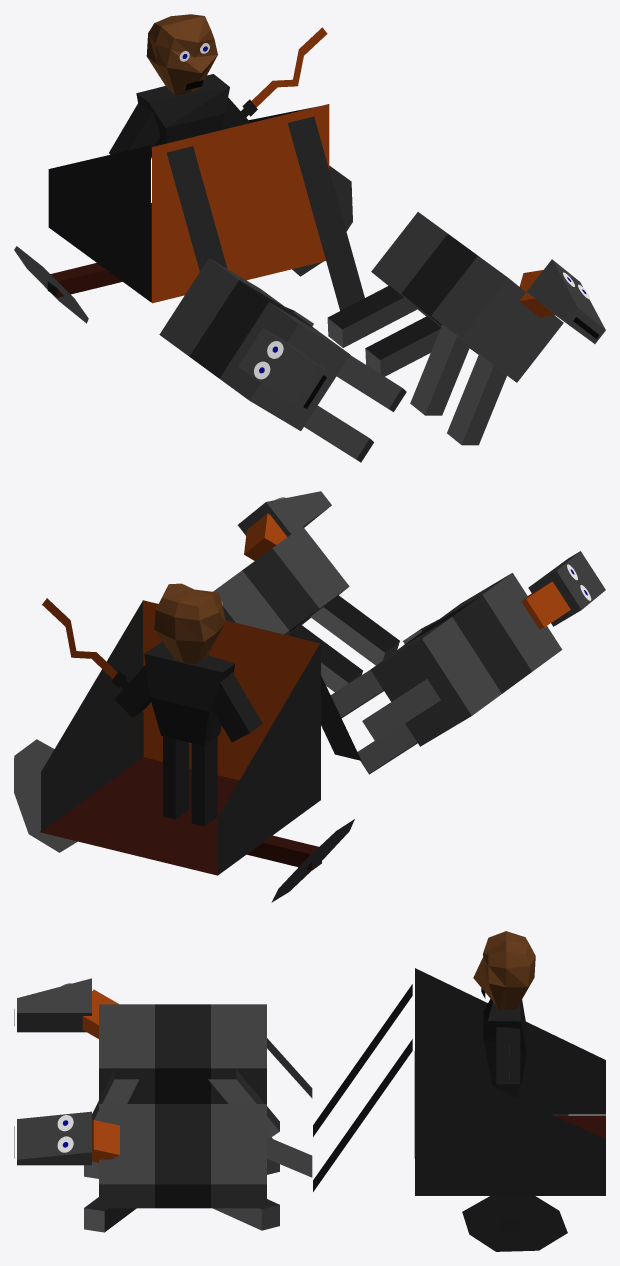
Rendered from heavychariot1d.obj.
3 renders of one model, top to bottom at view 1: azimuth 30°, elevation 25°; view 2: azimuth 150°, elevation 25°; view 3: azimuth 270°, elevation 25°, orthographic. The views are drawn at different scales.
Parts seen in each view (by area): view 1: Plane.005_Plane.006, Cube.006_Cube.009, Cube.015_Cube.017, Plane.003, Plane.013_Plane.014, Cube, Cube.001, Cube.021_Cube.023, Plane.012_Plane.013, Cube.011_Cube.013, Cube.012_Cube.014, Cube.009_Cube.010 (+10 smaller); view 2: Cube.015_Cube.017, Plane.003, Plane.002, Plane.004, Plane.005_Plane.006, Cube.006_Cube.009, Cube.001, Cube, Cube.012_Cube.014, Plane.006_Plane.007, Cube.021_Cube.023, Cube.004 (+14 smaller); view 3: Plane.004, Cube.006_Cube.009, Cube.015_Cube.017, Plane.003, Plane.006_Plane.007, Cube, Cube.014_Cube.016, Cube.021_Cube.023, Cube.001, Cube.002, Plane.013_Plane.014, Plane.012_Plane.013 (+9 smaller).
Boxes of the visible parts, x1=… form: Plane.005_Plane.006: x1=152, y1=104, x2=329, y2=303; Cube.006_Cube.009: x1=371, y1=212, x2=563, y2=382; Cube.015_Cube.017: x1=159, y1=258, x2=350, y2=430; Plane.003: x1=48, y1=145, x2=150, y2=301; Plane.013_Plane.014: x1=287, y1=116, x2=364, y2=310; Cube: x1=146, y1=14, x2=217, y2=95; Cube.001: x1=136, y1=74, x2=229, y2=158; Cube.021_Cube.023: x1=238, y1=328, x2=330, y2=412; Plane.012_Plane.013: x1=166, y1=146, x2=227, y2=271; Cube.011_Cube.013: x1=447, y1=354, x2=506, y2=445; Cube.012_Cube.014: x1=410, y1=324, x2=470, y2=415; Cube.009_Cube.010: x1=327, y1=285, x2=418, y2=347; Cube.015_Cube.017: x1=370, y1=573, x2=562, y2=746; Plane.003: x1=218, y1=642, x2=320, y2=874; Plane.002: x1=39, y1=757, x2=239, y2=875; Plane.004: x1=41, y1=601, x2=143, y2=831; Plane.005_Plane.006: x1=142, y1=600, x2=319, y2=780; Cube.006_Cube.009: x1=213, y1=526, x2=349, y2=634; Cube.001: x1=144, y1=641, x2=234, y2=745; Cube: x1=154, y1=583, x2=225, y2=663; Cube.012_Cube.014: x1=310, y1=595, x2=399, y2=665; Plane.006_Plane.007: x1=14, y1=739, x2=77, y2=852; Cube.021_Cube.023: x1=528, y1=551, x2=605, y2=626; Cube.004: x1=191, y1=736, x2=217, y2=826; Plane.004: x1=414, y1=1051, x2=605, y2=1194; Cube.006_Cube.009: x1=99, y1=1104, x2=266, y2=1208; Cube.015_Cube.017: x1=99, y1=1004, x2=266, y2=1103; Plane.003: x1=415, y1=968, x2=605, y2=1114; Plane.006_Plane.007: x1=462, y1=1195, x2=567, y2=1251; Cube: x1=473, y1=931, x2=535, y2=1009; Cube.014_Cube.016: x1=17, y1=1111, x2=91, y2=1165; Cube.021_Cube.023: x1=17, y1=978, x2=91, y2=1032; Cube.001: x1=483, y1=999, x2=526, y2=1085; Cube.002: x1=496, y1=1027, x2=520, y2=1089; Plane.013_Plane.014: x1=313, y1=1039, x2=412, y2=1191; Plane.012_Plane.013: x1=313, y1=984, x2=412, y2=1136.
Size of the model in its own units: 9.29 by 7.31 by 14.9.
